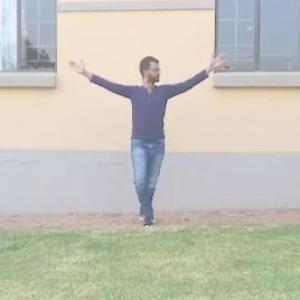takeoff: (74, 52, 227, 216)
